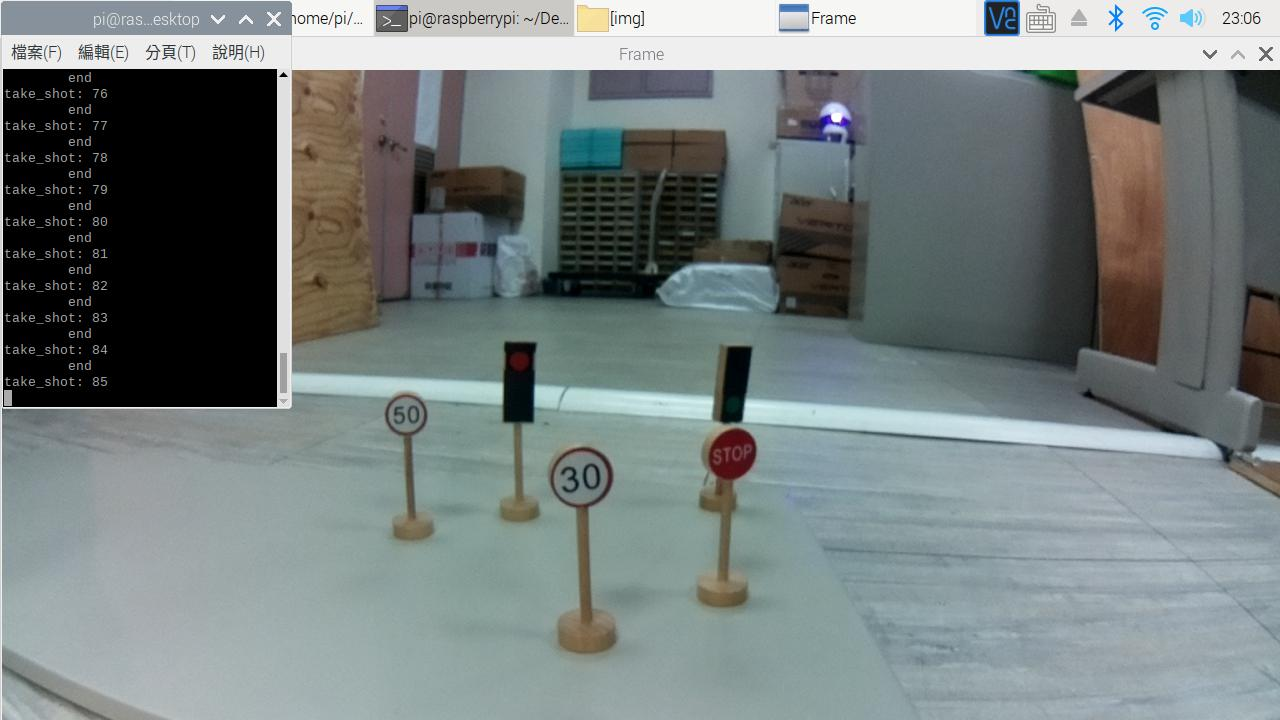Green: (705, 335, 757, 425)
Red: (485, 332, 555, 432)
Speed30: (545, 443, 621, 525)
Speed50: (383, 387, 428, 445)
Stop: (693, 423, 764, 483)
